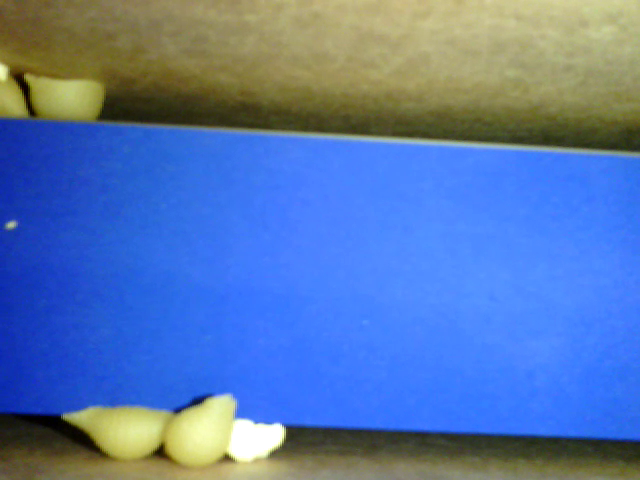shell: (57, 402, 175, 464), (162, 390, 239, 471), (27, 69, 108, 124)
